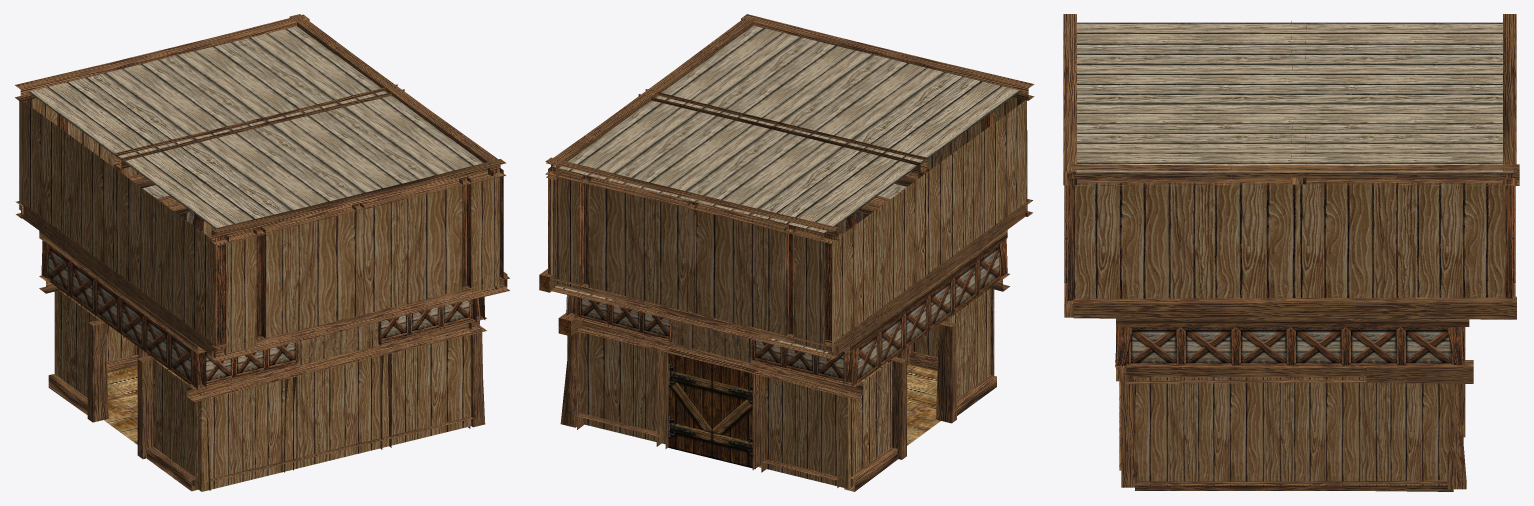
File: LAKETOWN_WAREHOUSE1_PS_WH1_FRONTROOM7746__GX.fbx
3 renders of one model, left to right at view 1: azimuth 30°, elevation 25°; view 2: azimuth 150°, elevation 25°; view 3: azimuth 270°, elevation 25°, orthographic. The views are drawn at different scales.
Visible parts, largest first — view 1: LAKETOWN_WAREHOUSE1_PS_WH1_FRONTROOM7746__GX; view 2: LAKETOWN_WAREHOUSE1_PS_WH1_FRONTROOM7746__GX; view 3: LAKETOWN_WAREHOUSE1_PS_WH1_FRONTROOM7746__GX.
Part boxes in pixels (box(x1,y1,x2,y2)): LAKETOWN_WAREHOUSE1_PS_WH1_FRONTROOM7746__GX: box(15, 14, 509, 491); LAKETOWN_WAREHOUSE1_PS_WH1_FRONTROOM7746__GX: box(539, 14, 1034, 491); LAKETOWN_WAREHOUSE1_PS_WH1_FRONTROOM7746__GX: box(1063, 14, 1519, 491).
Bounding box in the file's own units: 84890 × 79409 × 101670.
11 materials, 11 textured.
